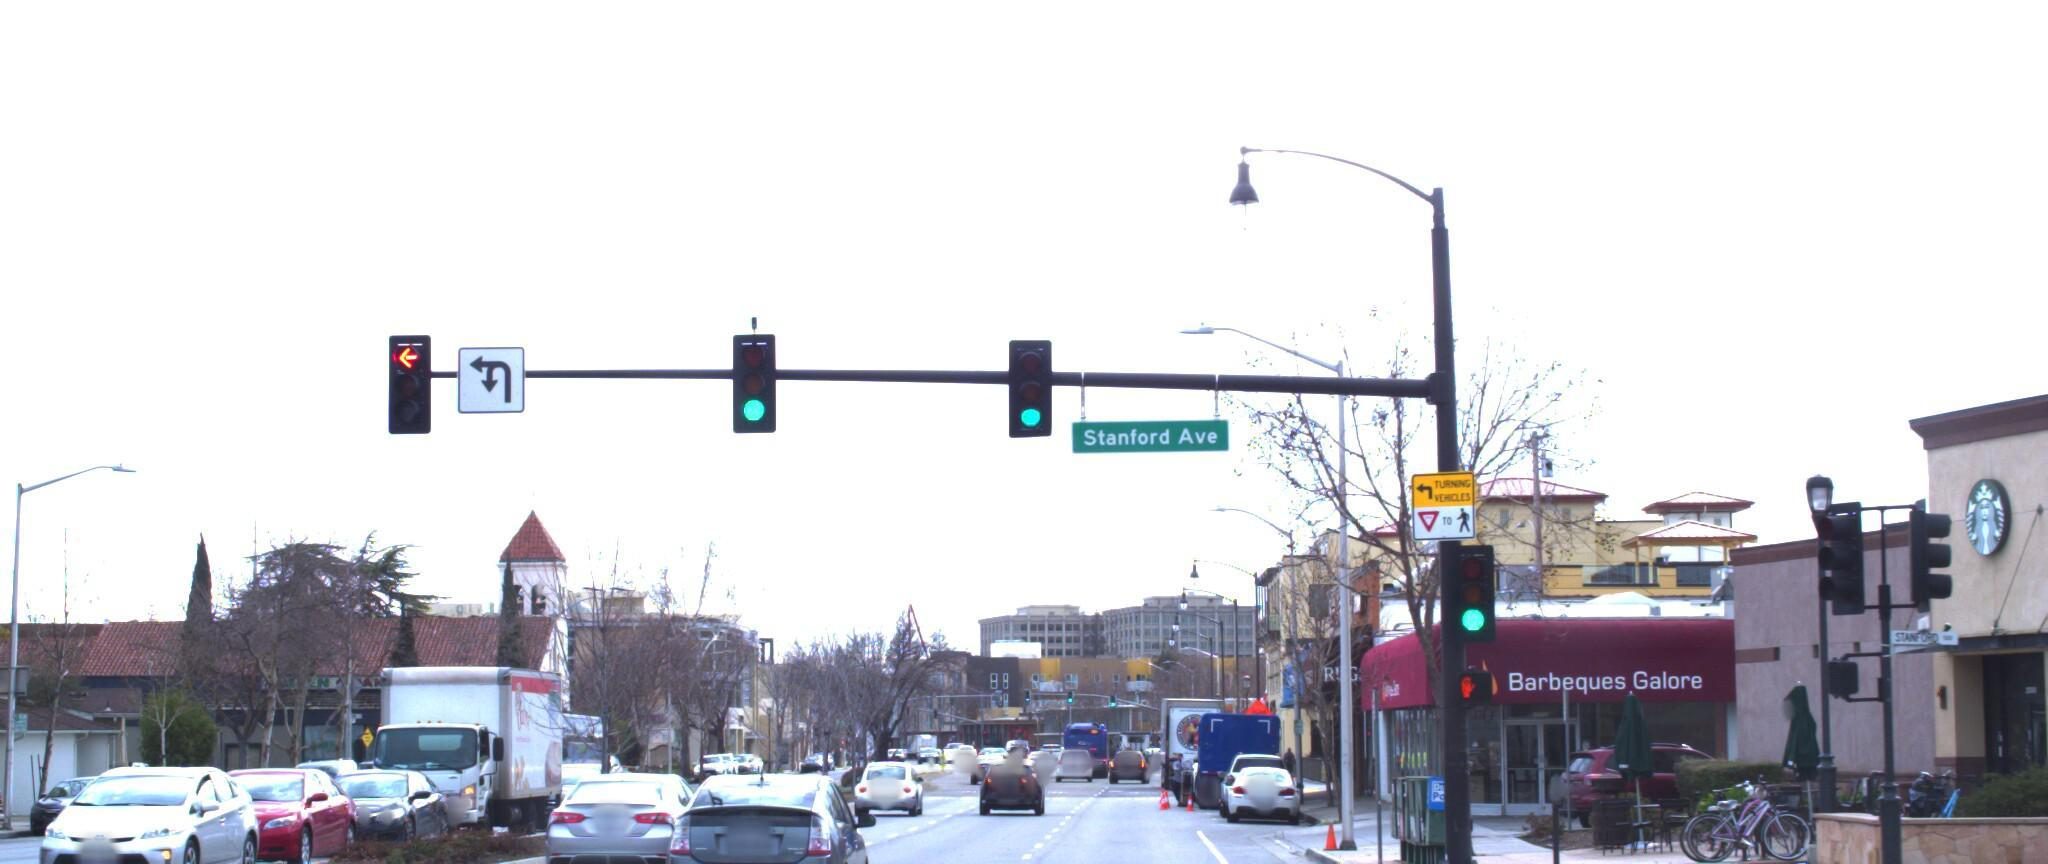bicycle: (1654, 756, 1814, 844), (1667, 760, 1813, 852)
car: (18, 748, 277, 864), (657, 754, 874, 864), (165, 747, 368, 861), (526, 756, 718, 864), (1217, 748, 1294, 810), (846, 740, 920, 801), (969, 743, 1045, 801), (0, 747, 10, 837)
truck: (360, 653, 571, 831)
